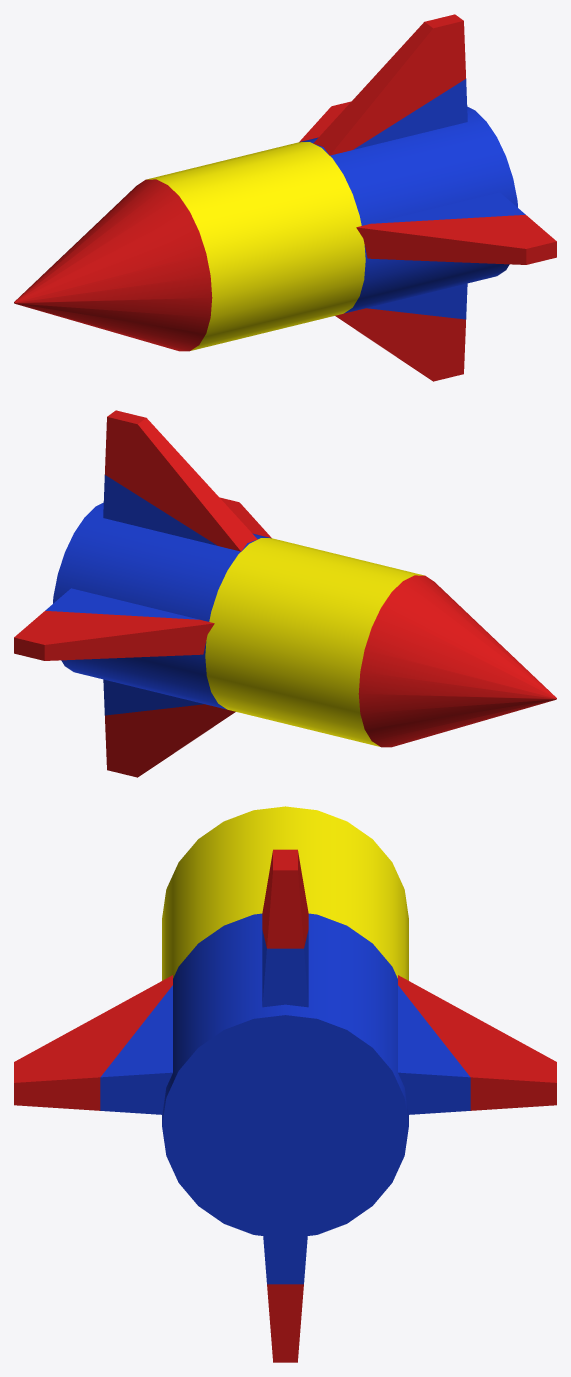
File: Bullet_Rocket 1.fbx
3 renders of one model, top to bottom at view 1: azimuth 30°, elevation 25°; view 2: azimuth 150°, elevation 25°; view 3: azimuth 270°, elevation 25°, orthographic. The views are drawn at different scales.
Visible parts, largest first — view 1: mergedBlocks; view 2: mergedBlocks; view 3: mergedBlocks.
Part boxes in pixels (x1,y1,x2,y2): mergedBlocks: [14, 14, 556, 381]; mergedBlocks: [14, 410, 556, 777]; mergedBlocks: [14, 806, 556, 1362].
Size of the model in its own units: 30 by 22 by 22.
